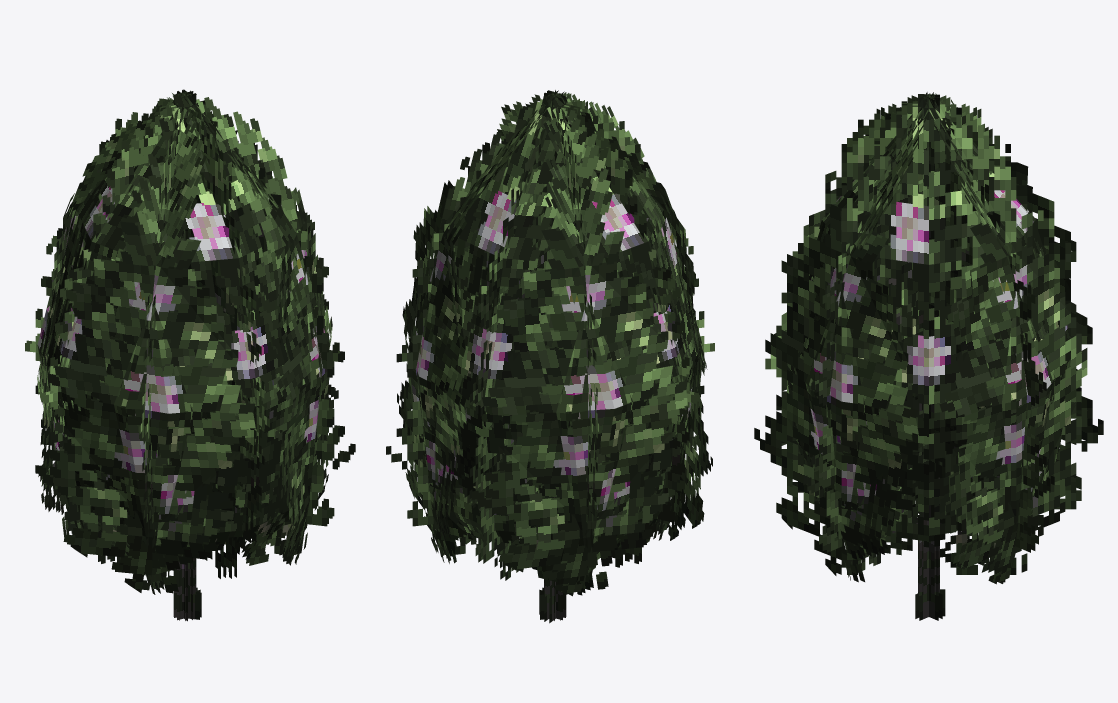
Rendered from bush04_spring4.glb.
3 renders of one model, left to right at view 1: azimuth 30°, elevation 25°; view 2: azimuth 150°, elevation 25°; view 3: azimuth 270°, elevation 25°, orthographic.
Parts seen in each view (by area): view 1: bush04; view 2: bush04; view 3: bush04.
Part boxes in pixels (<box>): bush04: <box>25,89,355,621</box>; bush04: <box>386,90,714,623</box>; bush04: <box>754,92,1103,620</box>.
Size of the model in its own units: 0.9 by 1.5 by 0.9.
Materials: 1 (1 with a texture image).
